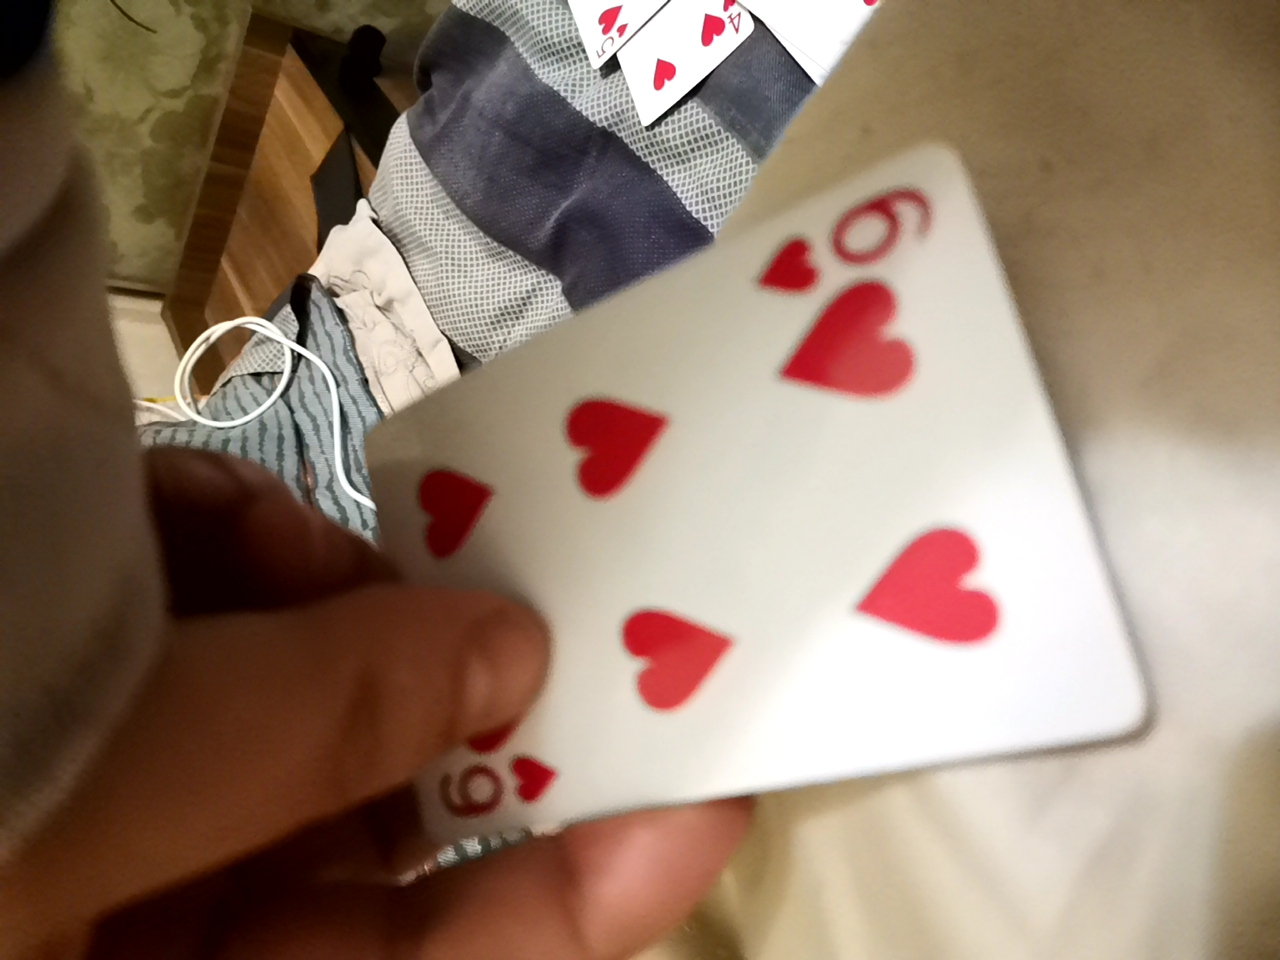hx 6: (346, 158, 1157, 852)
